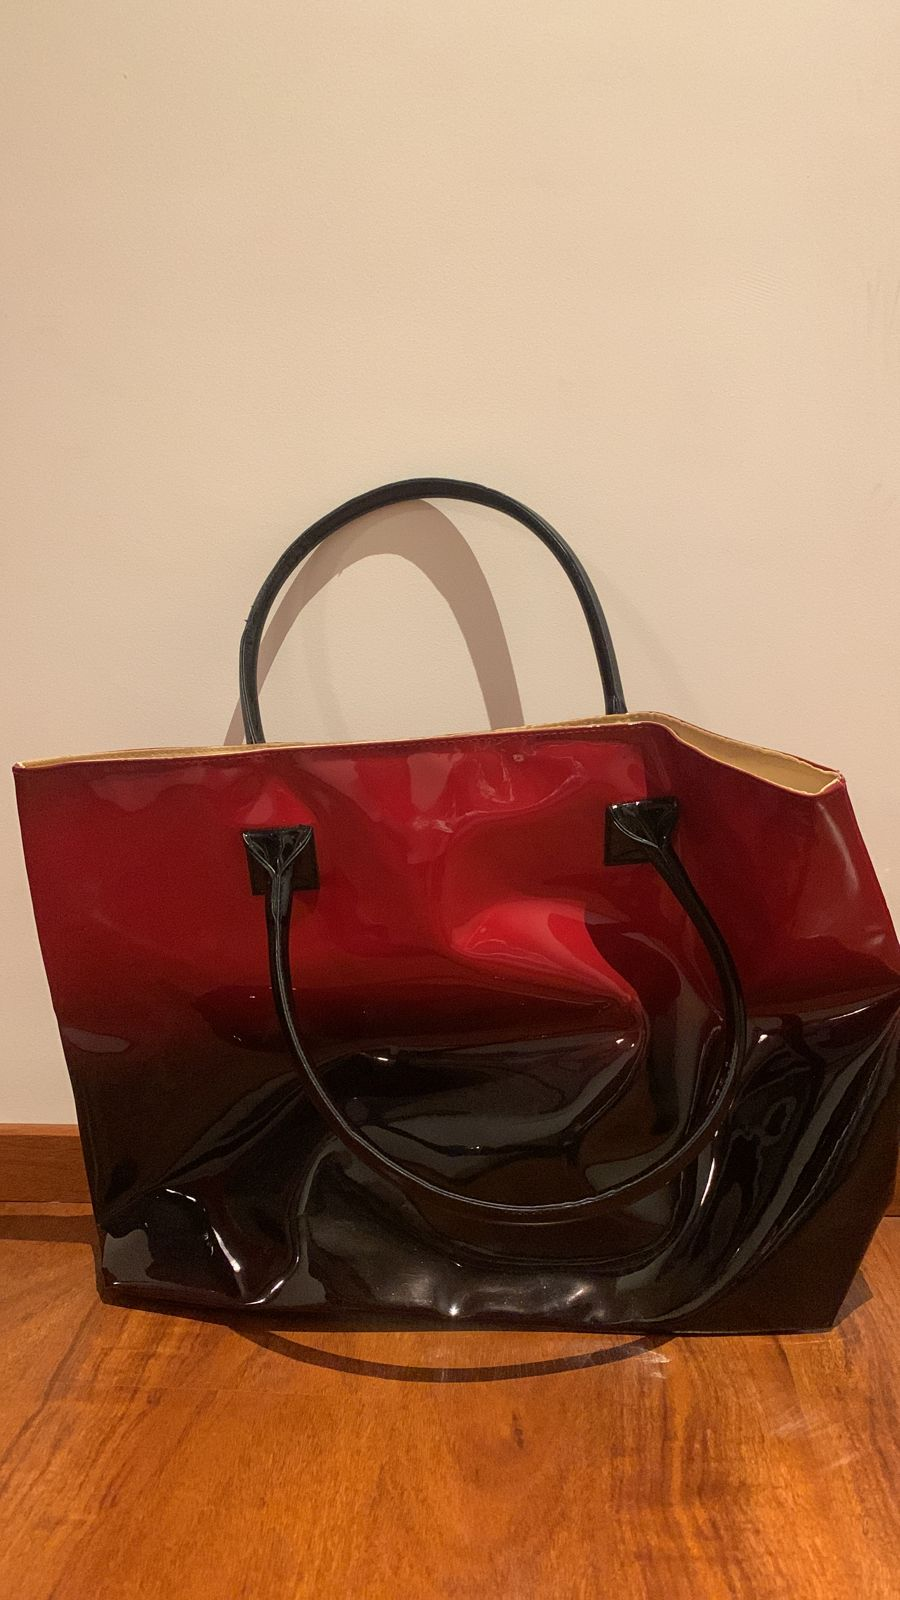cartera: (7, 471, 900, 1349)
lona: (121, 810, 837, 1280)
